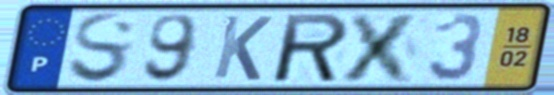3: (427, 11, 483, 85)
9: (141, 12, 201, 84)
K: (209, 13, 276, 83)
R: (273, 10, 353, 85)
S: (66, 10, 139, 87)
X: (336, 10, 427, 85)
